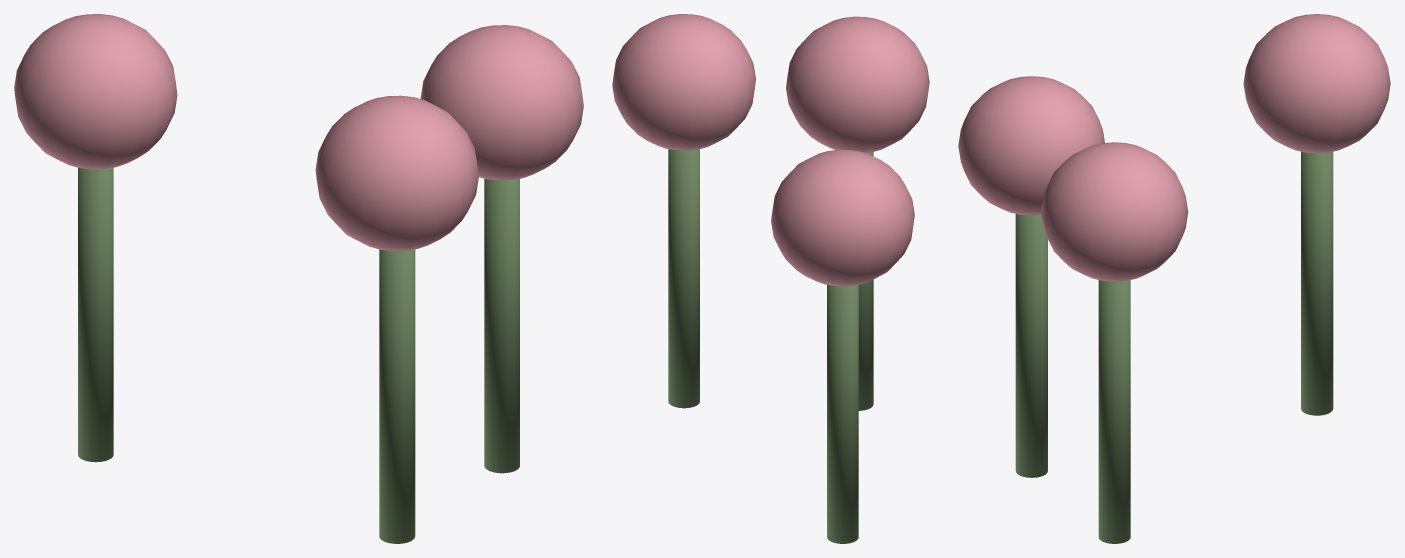
The model's file is flower.tulip-old.glb.
The picture shows the model from 3 angles, left to right: view 1: azimuth 30°, elevation 25°; view 2: azimuth 150°, elevation 25°; view 3: azimuth 270°, elevation 25°; orthographic projection. The views are drawn at different scales.
Parts seen in each view (by area): view 1: stem; view 2: stem; view 3: stem.
Boxes of the visible parts, box(x1,y1,x2,y2) form: stem: box(14, 14, 583, 543); stem: box(612, 14, 929, 543); stem: box(958, 14, 1390, 543).
Bounding box in the file's own units: 0.49 × 0.465 × 0.47.
